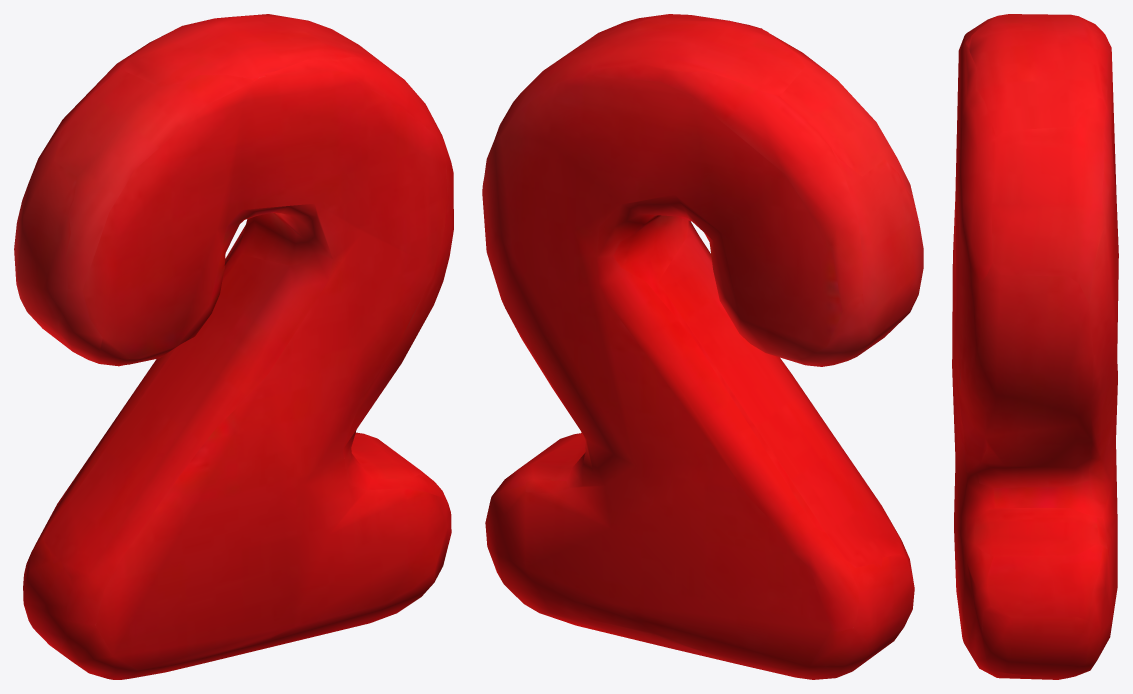
File: letter_2.glb
The picture shows the model from 3 angles, left to right: view 1: azimuth 30°, elevation 25°; view 2: azimuth 150°, elevation 25°; view 3: azimuth 270°, elevation 25°; orthographic projection. The views are drawn at different scales.
Parts seen in each view (by area): view 1: tripo_node_806615f8; view 2: tripo_node_806615f8; view 3: tripo_node_806615f8.
Boxes of the visible parts, x1,y1,x2,y2 form: tripo_node_806615f8: (14, 14, 453, 679); tripo_node_806615f8: (482, 14, 923, 679); tripo_node_806615f8: (952, 14, 1118, 679).
Bounding box in the file's own units: 0.6791 × 0.9777 × 0.2555.
Materials: 1 (1 with a texture image).
